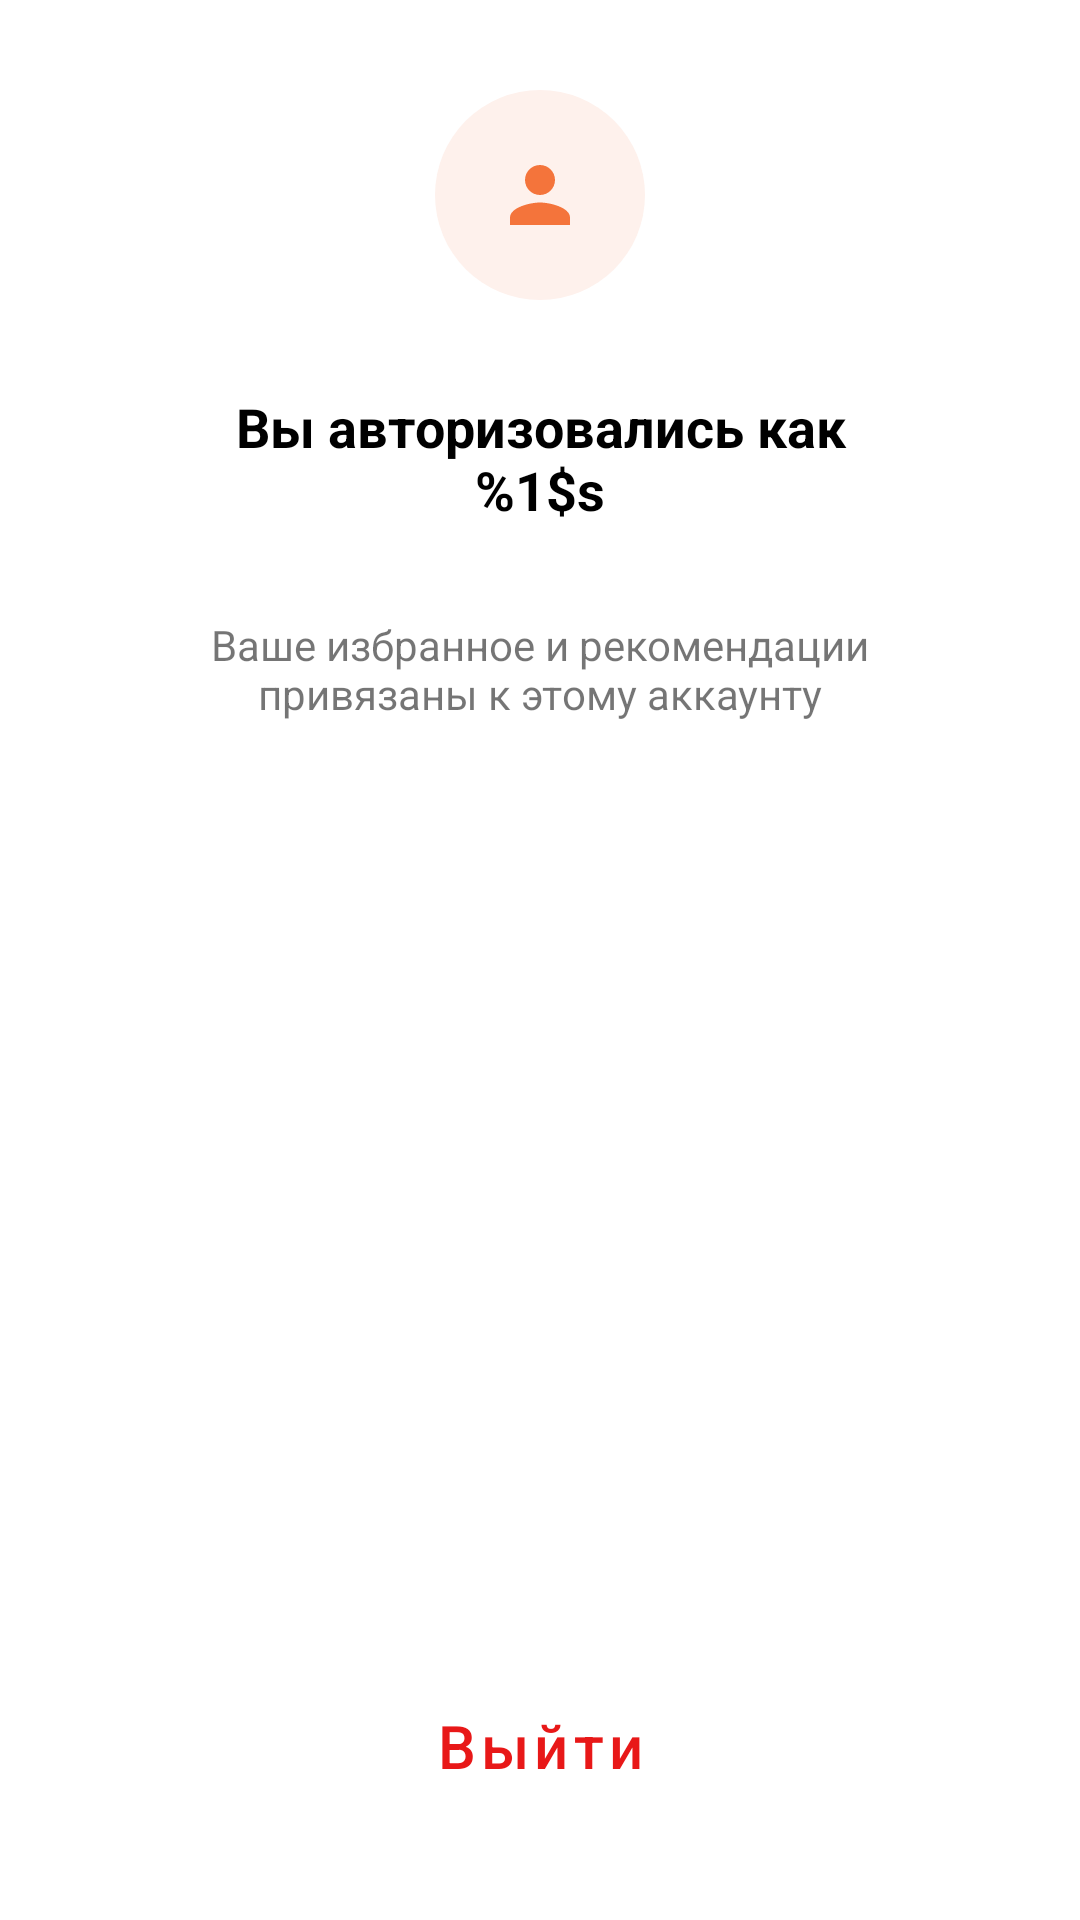

Icons on this 1080x1920 Android screen, each with its box as bbox=(x1, y1, x2, y2):
person: bbox=(510, 165, 570, 225)
